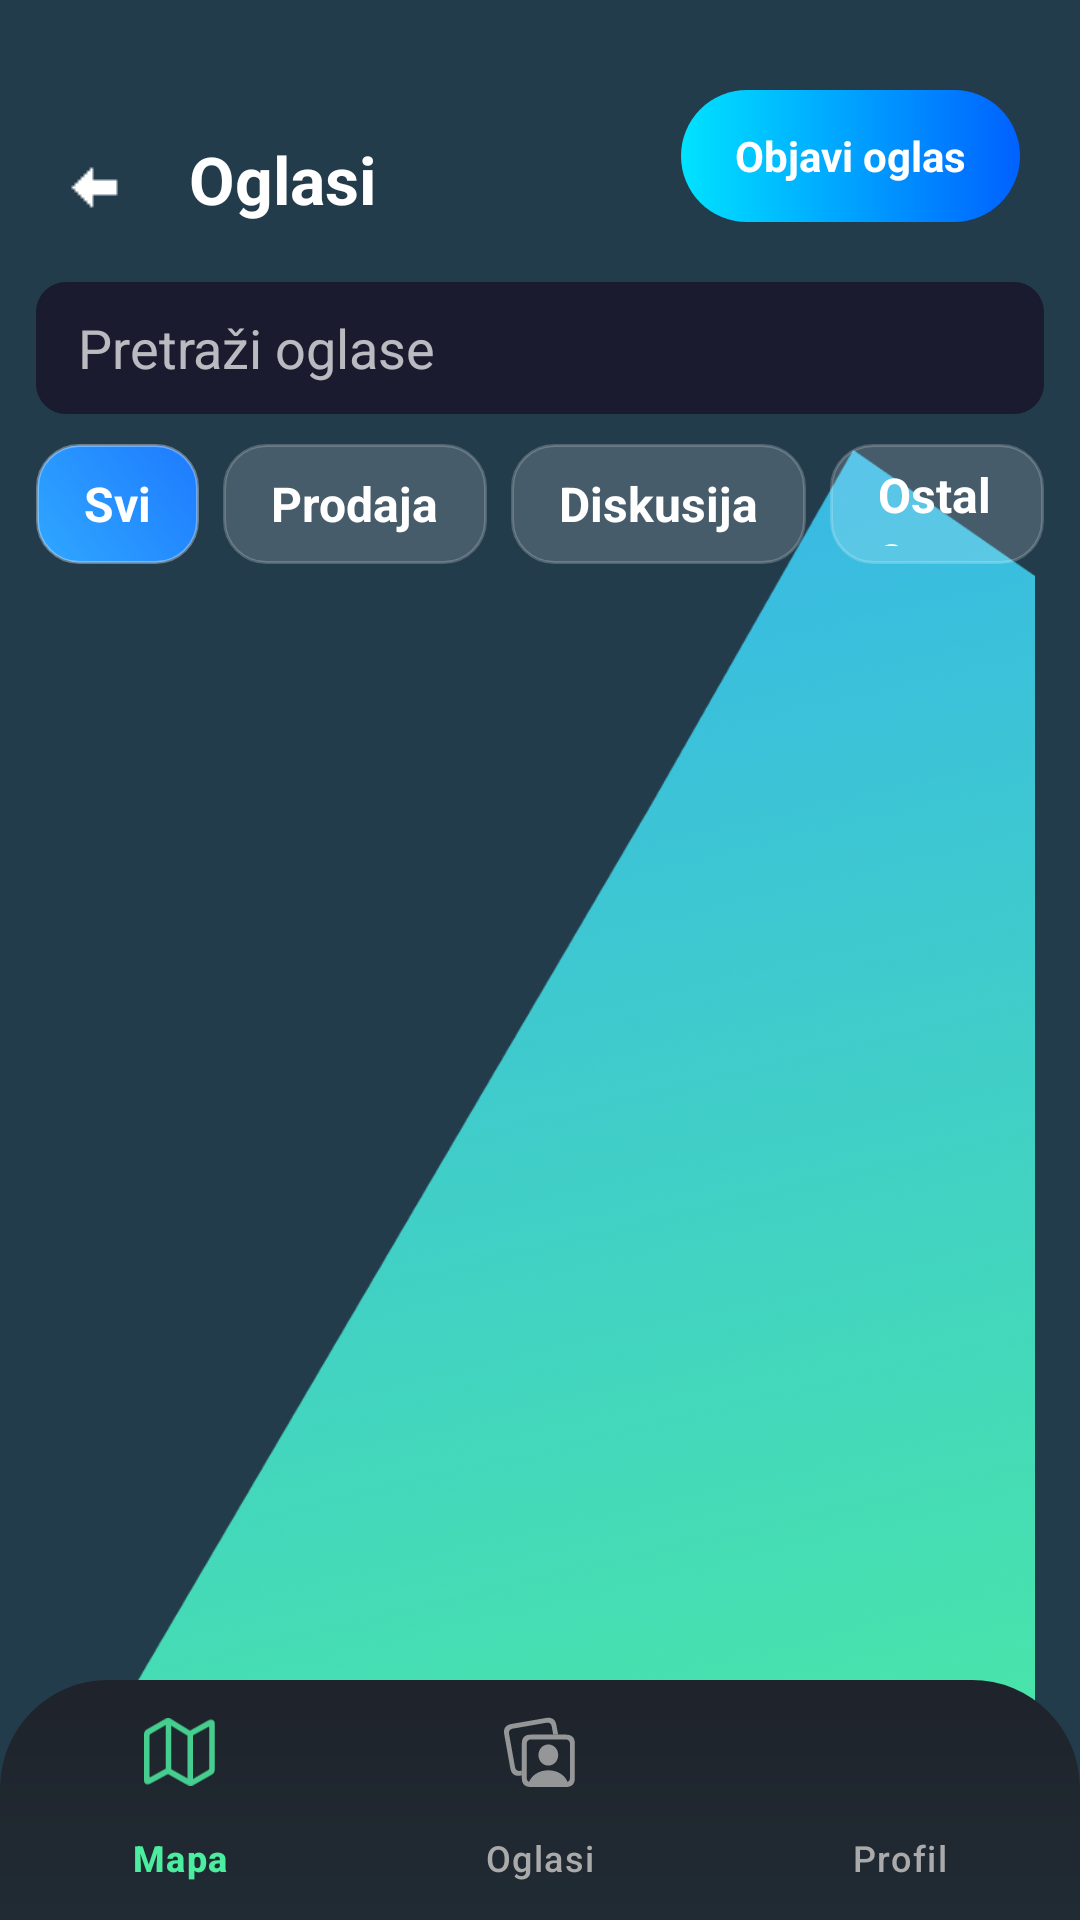

Icons on this 1080 x 1920 Android screen, each with its box as (x1, y1, x2, y2):
Nazad: (71, 167, 118, 208)
